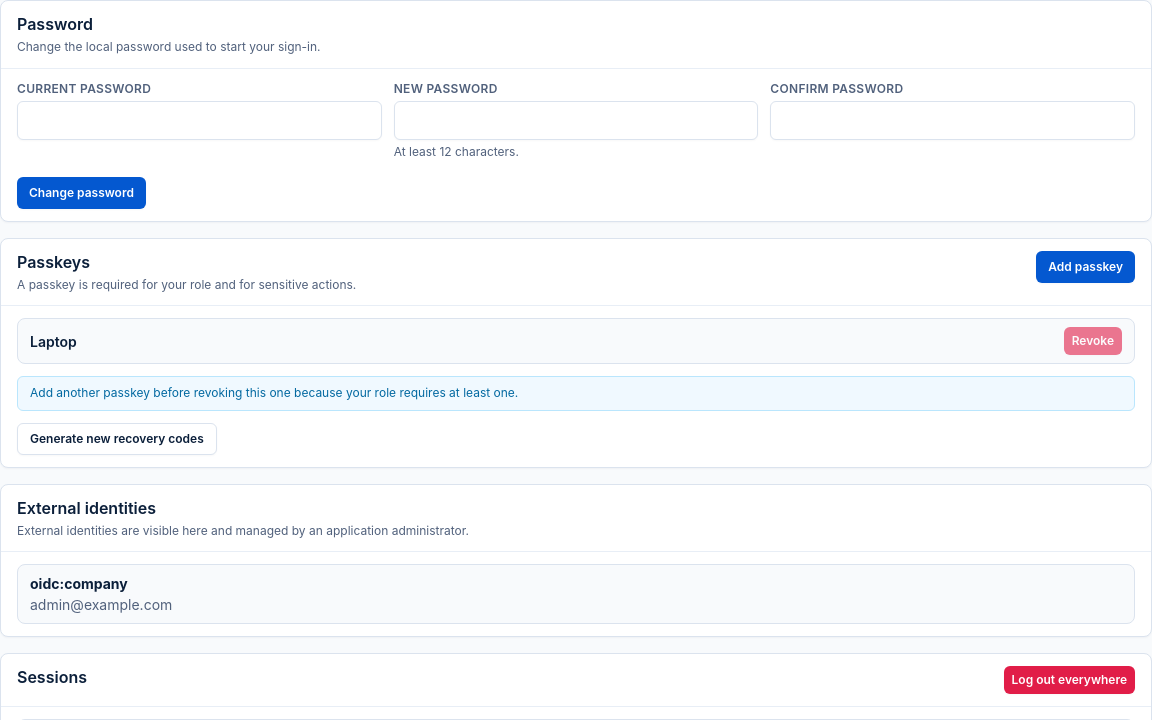
Test: SecurityPage › confirms recovery-code rotation and global logout
This screenshot has width=1152, height=720.
Click the button "Generate new recovery codes" at (117, 438), box [17,422,217,454]
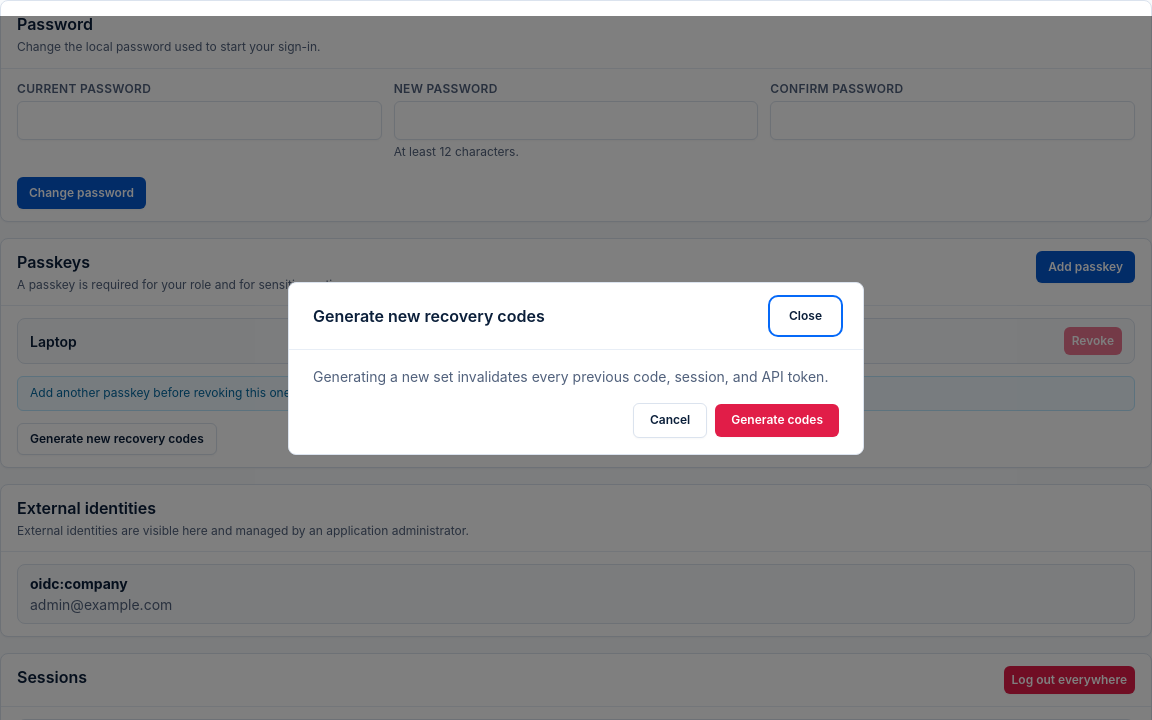
Expected: the dialog "Generate new recovery codes" is shown, [288,282,864,454]
Click the button "Cancel" at (670, 420), box [633,403,707,438]
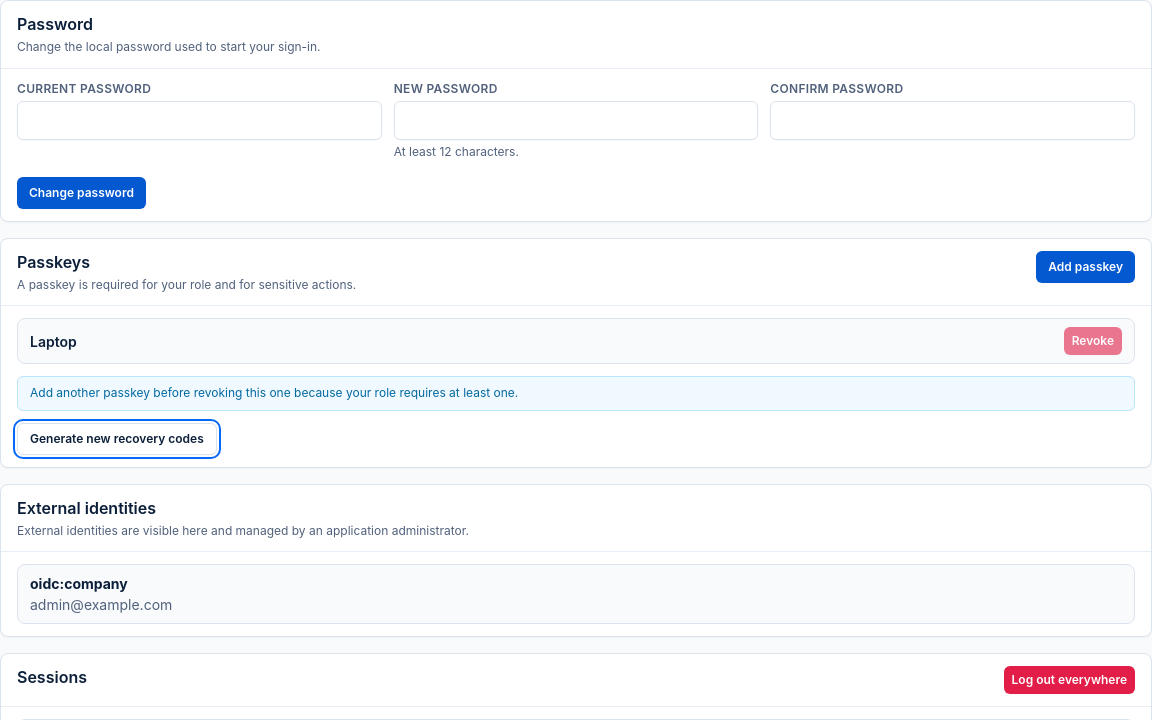
Click the button "Log out everywhere" at (1069, 680), box [1004,666,1135,694]
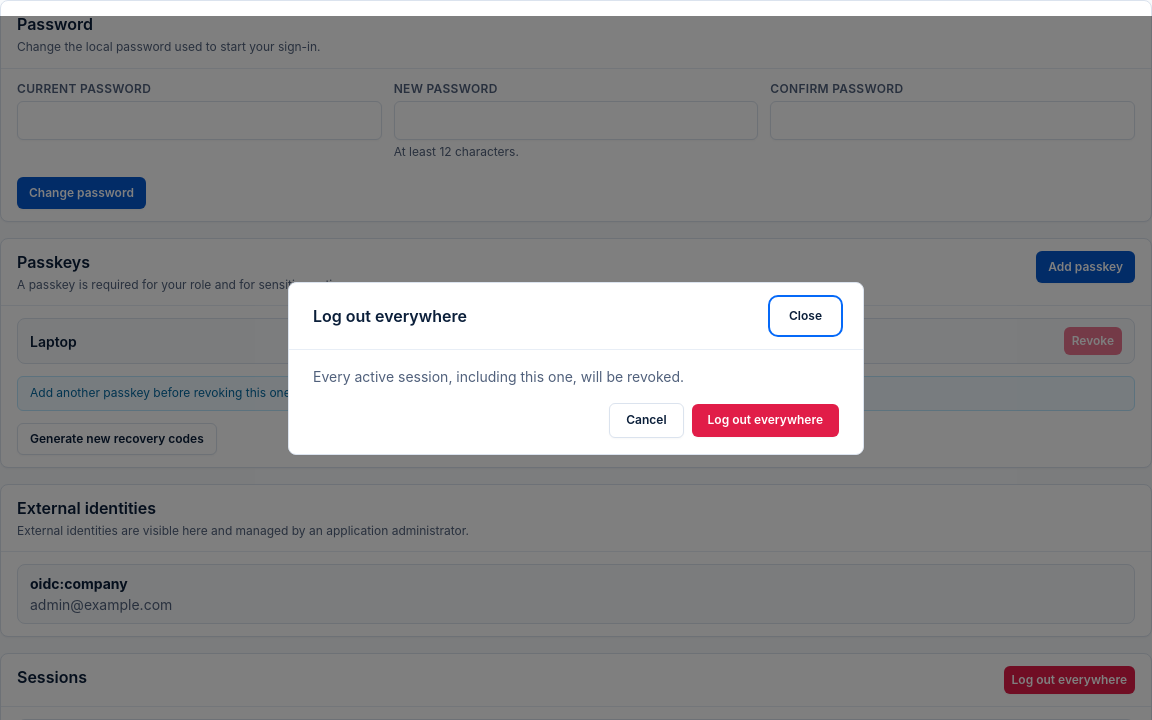
Expected: the dialog "Log out everywhere" is shown, [288,282,864,454]
